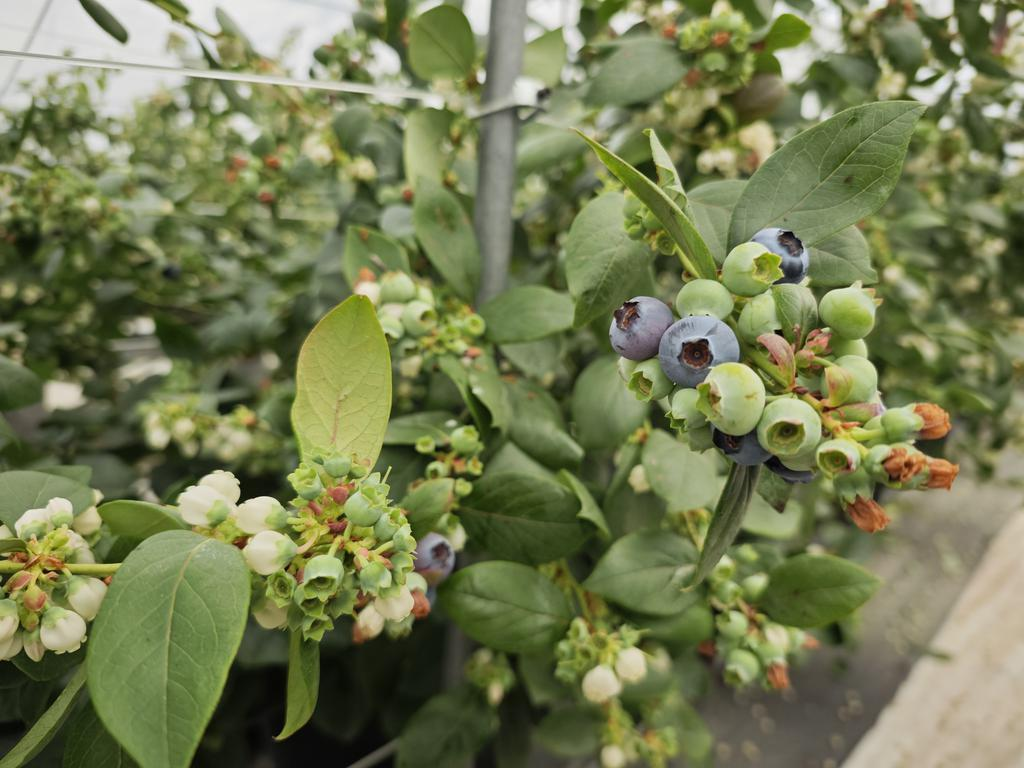RipeBlueBerry: (657, 314, 742, 388), (606, 294, 673, 362)
UnripeBlueBerry: (696, 362, 762, 436), (757, 395, 823, 460)
